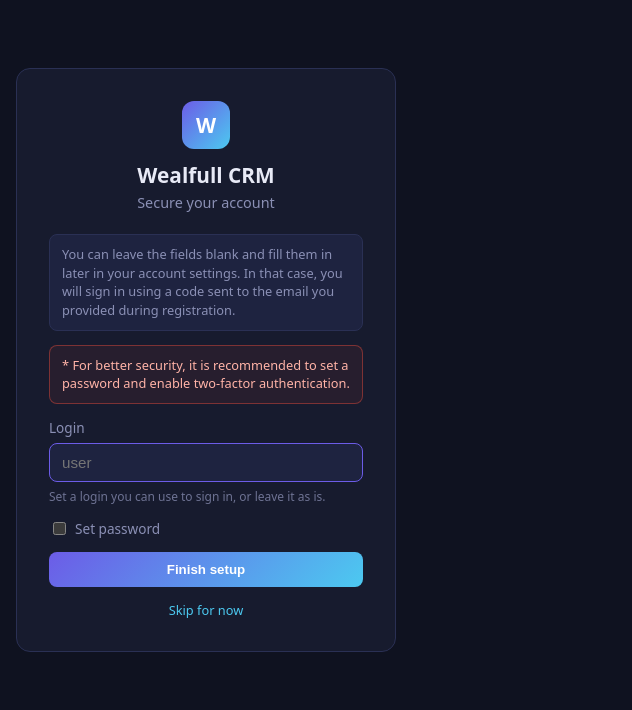
Test: Security › shows an error when passwords do not match
Click the text "Set password" at coordinates (107, 528), box [53,519,160,538]
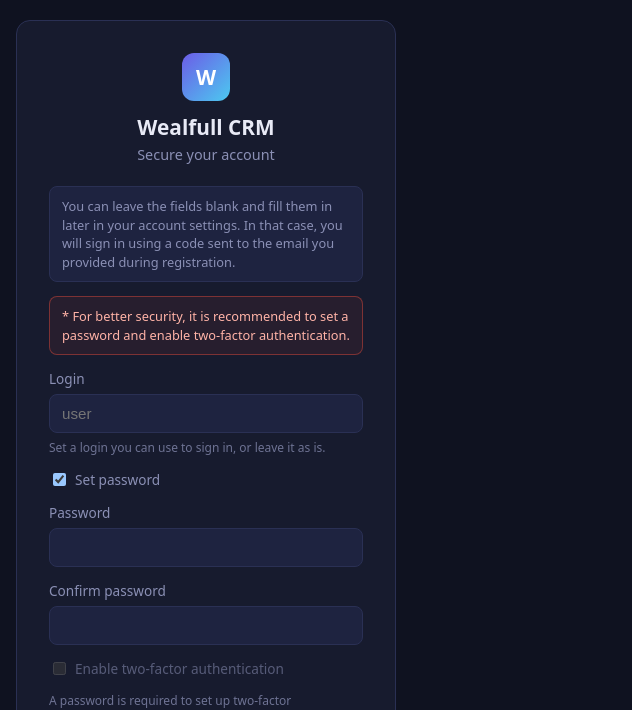
Type "Str0ng!pass" into the password field labelled "Password" at coordinates (206, 548), box [49,528,363,567]
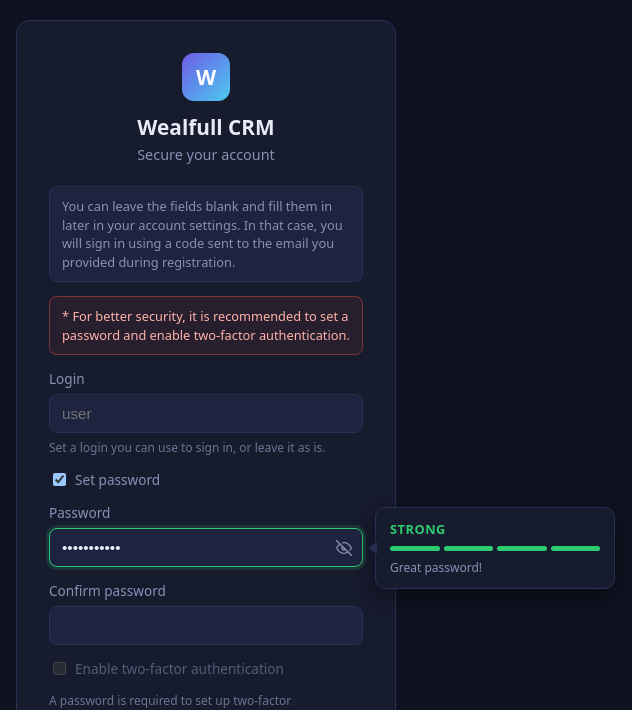
Type "Different!1" into the password field labelled "Confirm password" at coordinates (206, 626), box [49,606,363,645]
(page scrolled)
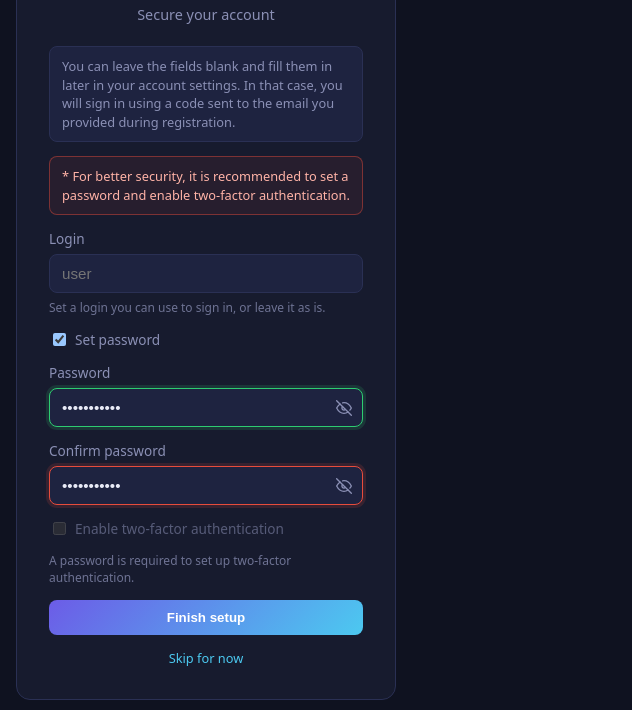
Click the button "Finish setup" at coordinates (206, 618), box [49,600,363,635]
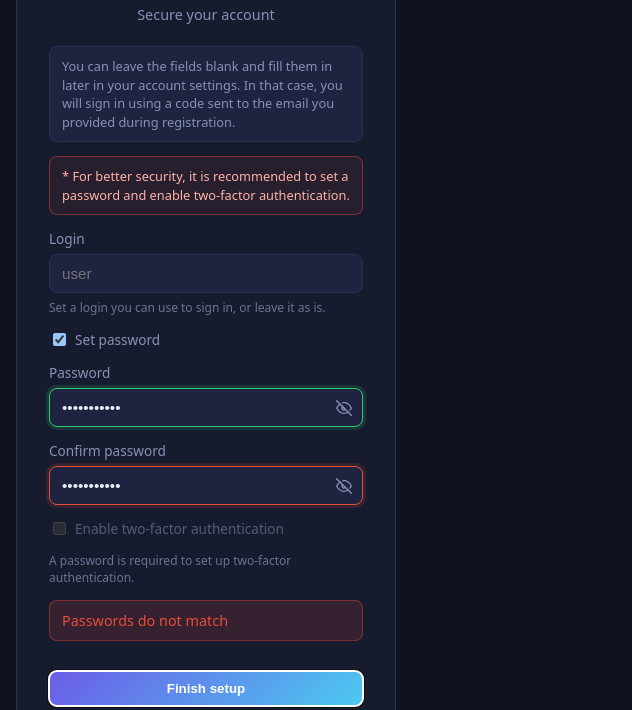
Check: the text "Passwords do not match" is shown, box [49,600,363,641]
